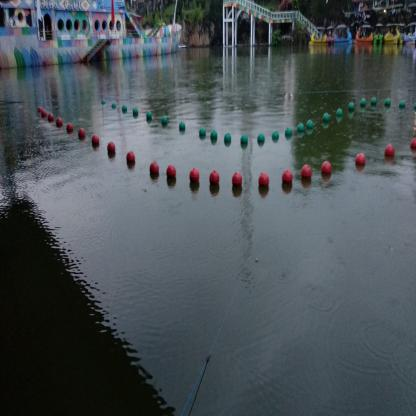green_buoy: (240, 133, 248, 148), (284, 126, 292, 140), (322, 113, 330, 126), (270, 131, 278, 142), (257, 132, 264, 144), (210, 130, 218, 140), (224, 134, 232, 144), (199, 127, 206, 138), (348, 102, 354, 114), (370, 98, 377, 108), (179, 121, 186, 131), (336, 108, 342, 119), (384, 99, 391, 108), (121, 105, 128, 114), (146, 111, 153, 120), (161, 115, 168, 124), (399, 101, 405, 110), (360, 99, 365, 109), (133, 107, 138, 117), (298, 123, 303, 133), (306, 121, 312, 129), (100, 98, 106, 104), (112, 103, 116, 110)
red_buoy: (354, 154, 366, 170), (167, 166, 177, 184), (258, 172, 269, 188), (302, 164, 312, 181), (282, 170, 292, 187), (231, 173, 243, 187), (127, 151, 136, 169), (321, 161, 331, 177), (384, 146, 395, 160), (209, 172, 220, 185), (189, 169, 199, 182), (150, 162, 158, 178), (107, 142, 116, 155), (92, 134, 100, 146), (66, 123, 73, 134), (78, 129, 85, 140), (40, 109, 47, 118), (411, 137, 415, 152), (56, 118, 62, 127), (49, 114, 54, 122), (38, 107, 43, 114)
